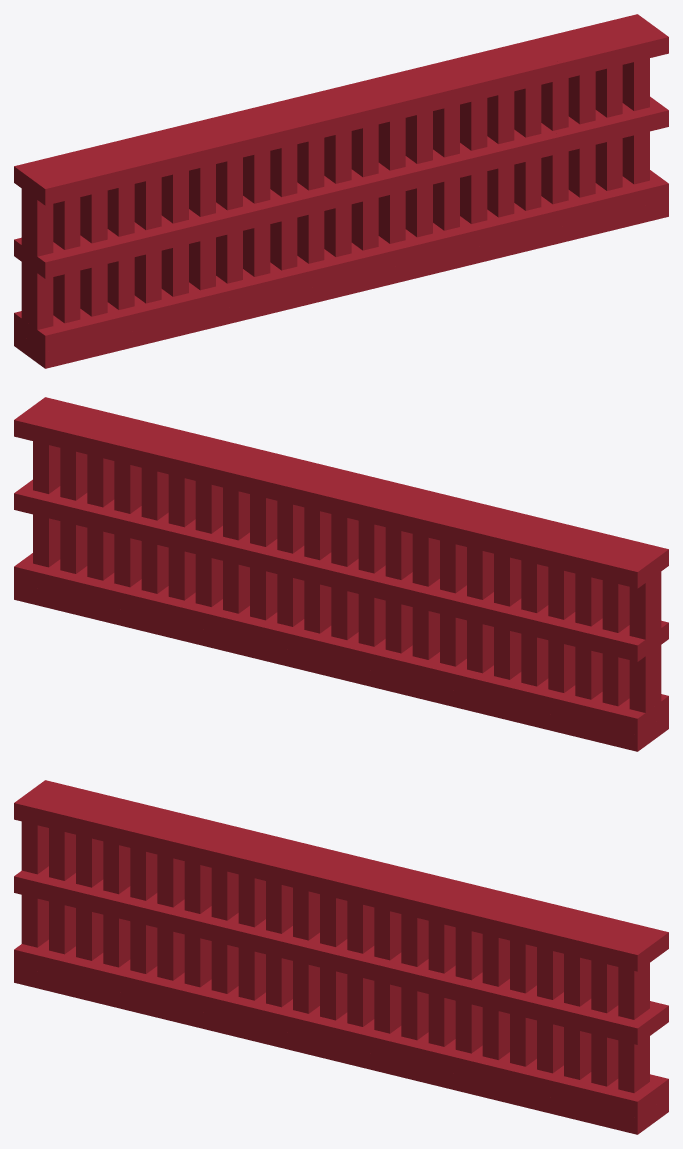
3 views of the same model, one above another, from view 1: azimuth 30°, elevation 25°; view 2: azimuth 150°, elevation 25°; view 3: azimuth 330°, elevation 25° (orthographic).
Visible parts, largest first — view 1: brick style 2a#1 (×116); view 2: brick style 2a#1 (×116); view 3: brick style 2a#1 (×116).
Boxes of the visible parts, x1=… form: brick style 2a#1 (×116): x1=14, y1=14, x2=668, y2=368; brick style 2a#1 (×116): x1=14, y1=397, x2=668, y2=751; brick style 2a#1 (×116): x1=14, y1=780, x2=668, y2=1134.
Bounding box in the file's own units: 2.76 × 0.76 × 0.24.
